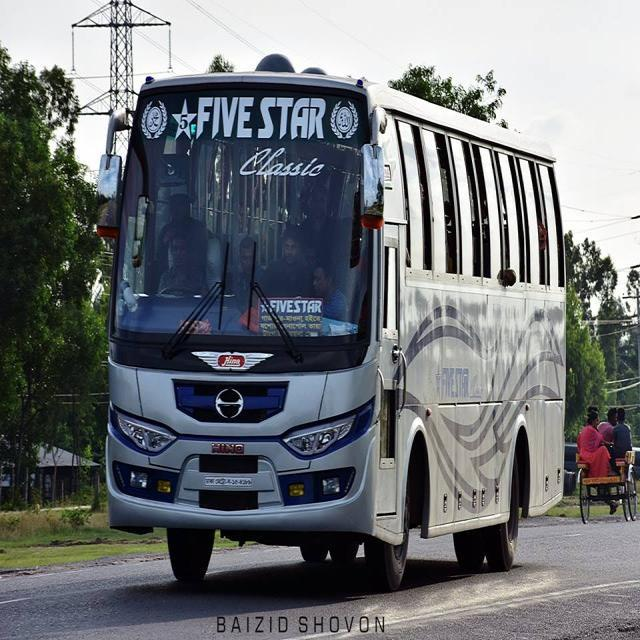bus: (94, 51, 567, 593)
